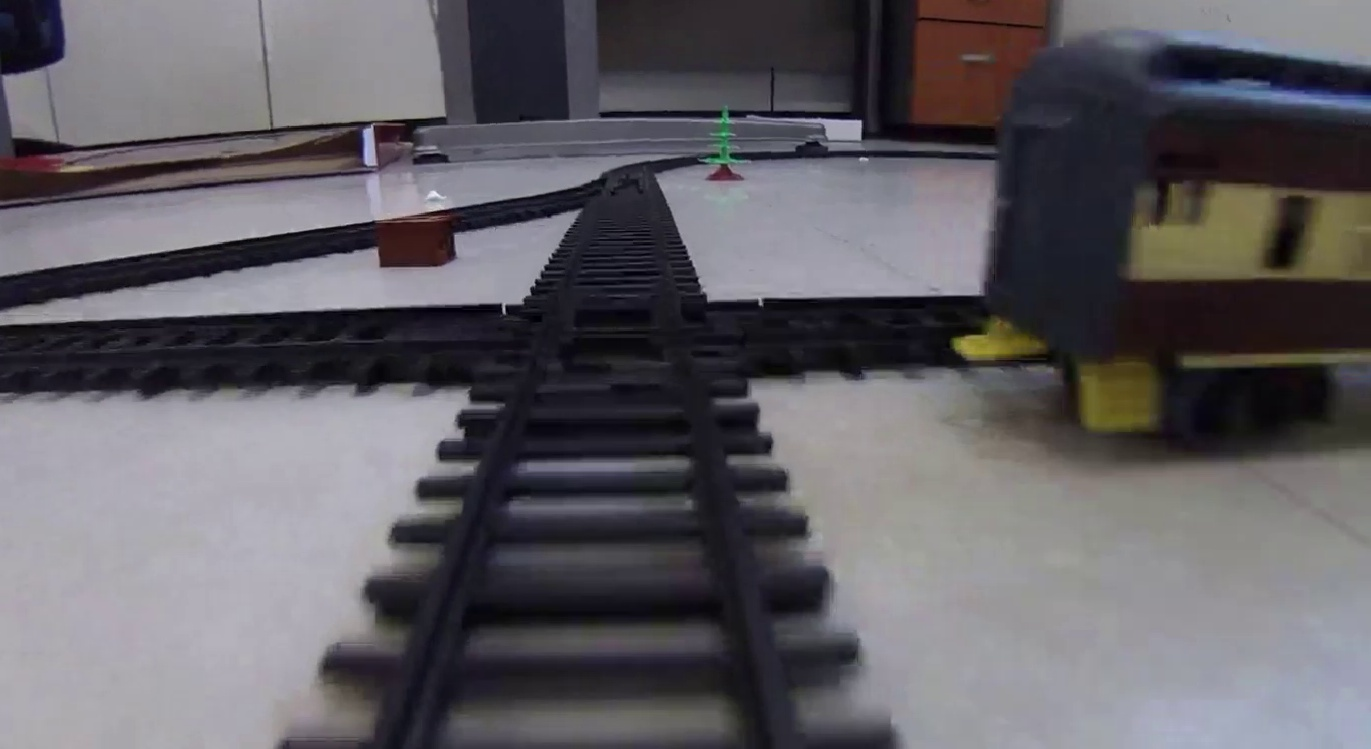box: (377, 217, 454, 267)
tree: (699, 106, 755, 184)
